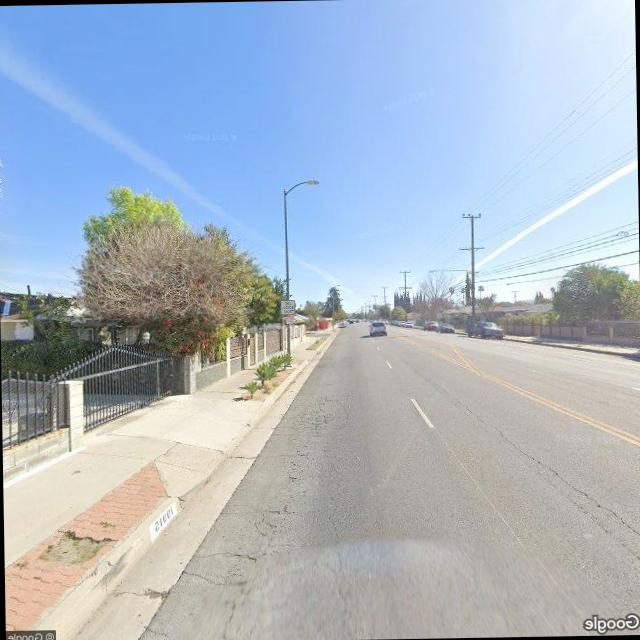crack: (233, 395, 334, 640)
pothole: (448, 384, 635, 536)
